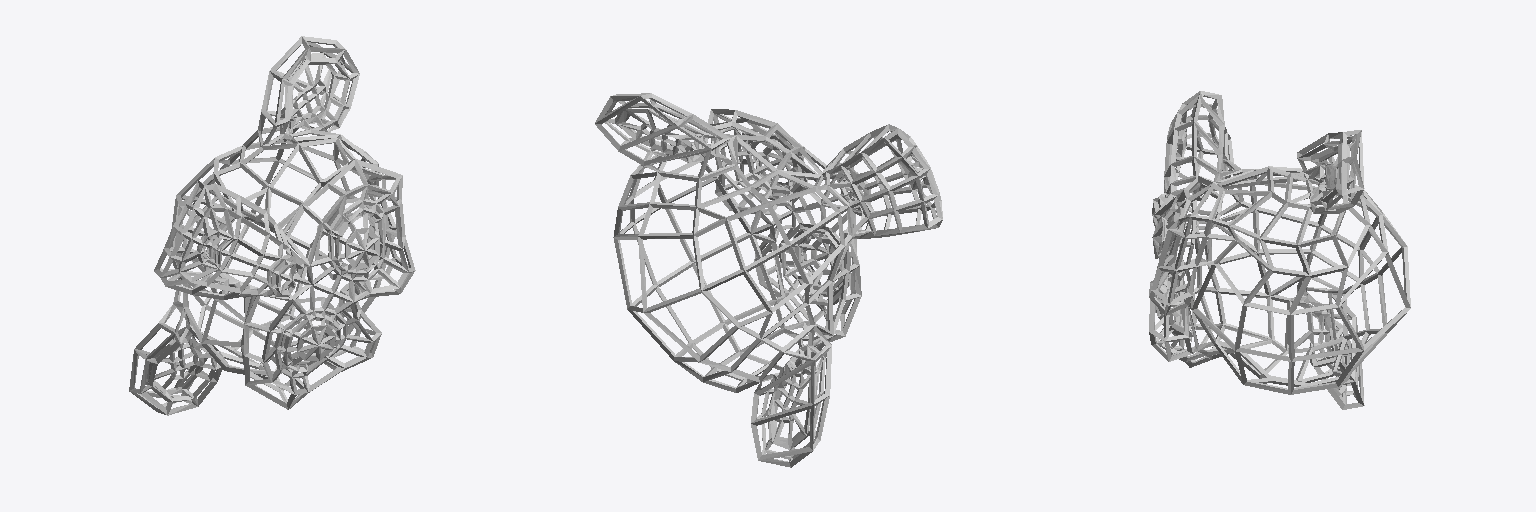
File: wireframe_monkey_task_5.obj
The picture shows the model from 3 angles: view 1: azimuth 30°, elevation 25°; view 2: azimuth 150°, elevation 25°; view 3: azimuth 270°, elevation 25°; orthographic projection.
Visible parts, largest first — view 1: Suzanne; view 2: Suzanne; view 3: Suzanne.
Boxes of the visible parts, x1,y1,x2,y2 form: Suzanne: [129, 36, 415, 415]; Suzanne: [595, 93, 942, 467]; Suzanne: [1149, 91, 1410, 409].
Bounding box in the file's own units: 1.04 × 1.24 × 0.8708.